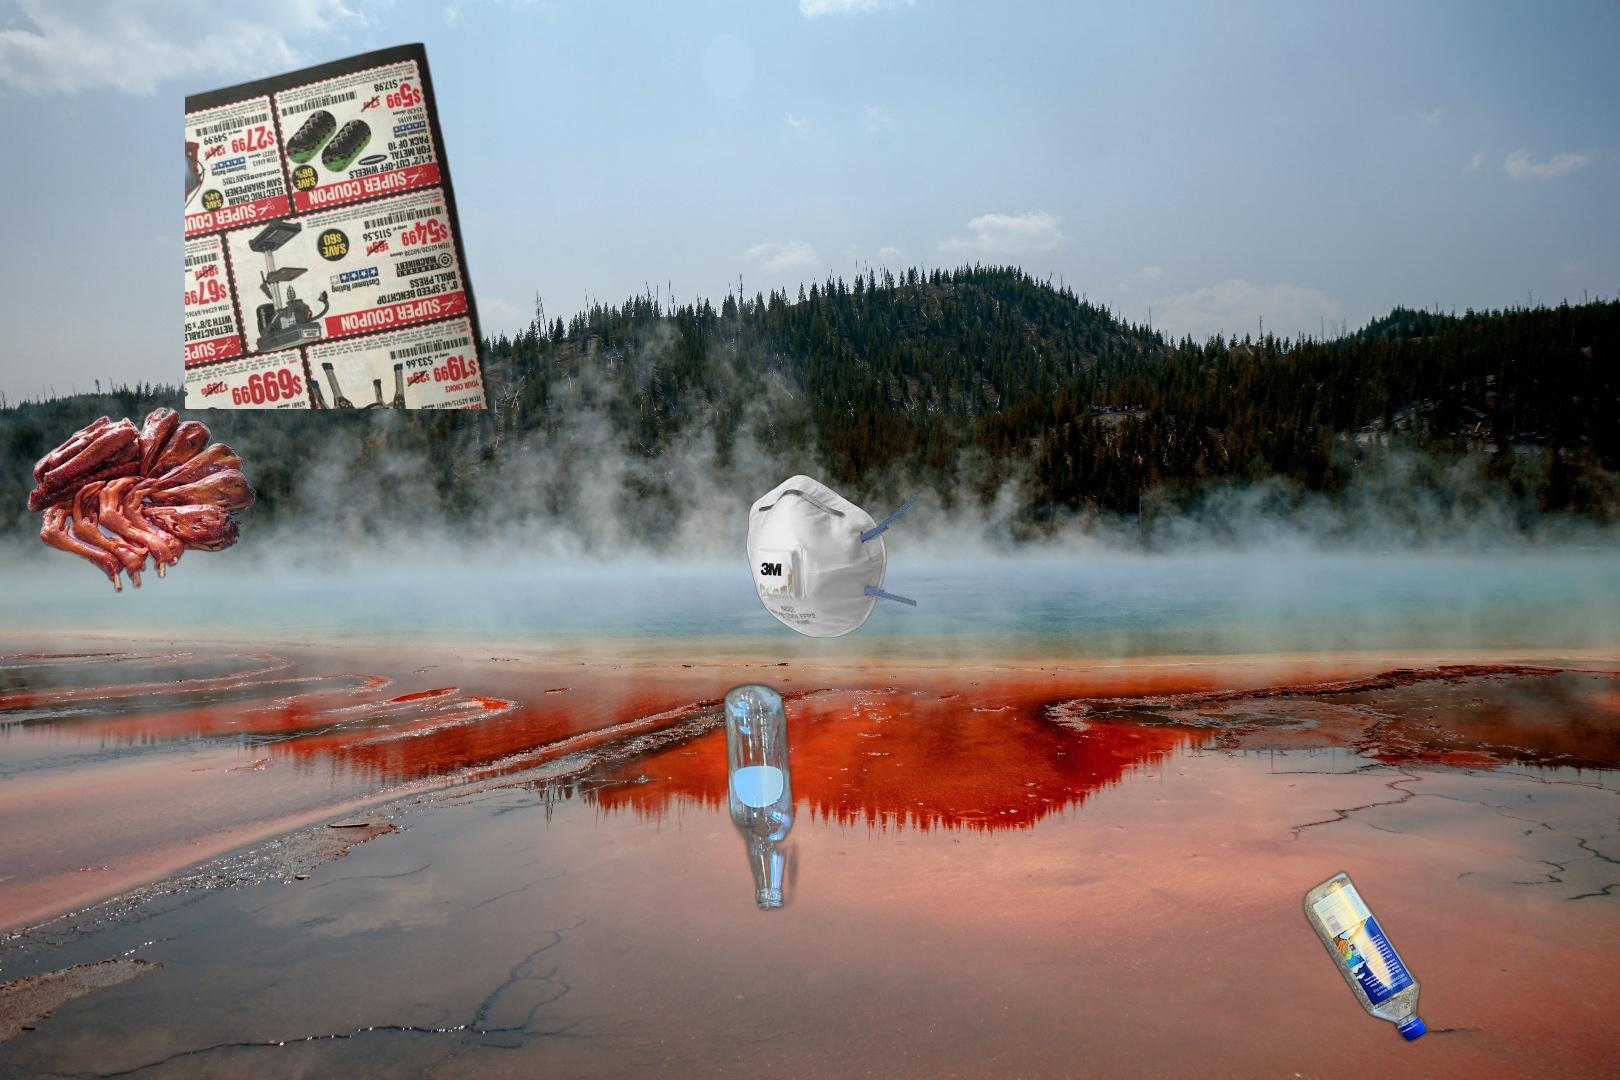biological: (20, 406, 260, 595)
glass: (720, 595, 1132, 915)
paper: (184, 39, 500, 409)
plastic-bottles: (1299, 865, 1432, 1047), (334, 174, 407, 309)
trash: (742, 472, 918, 641)
